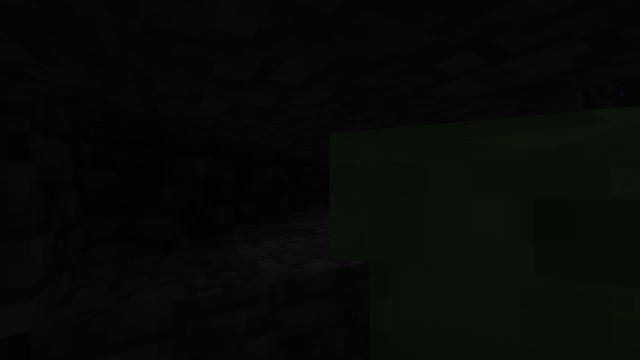slimes: (319, 94, 621, 358)
